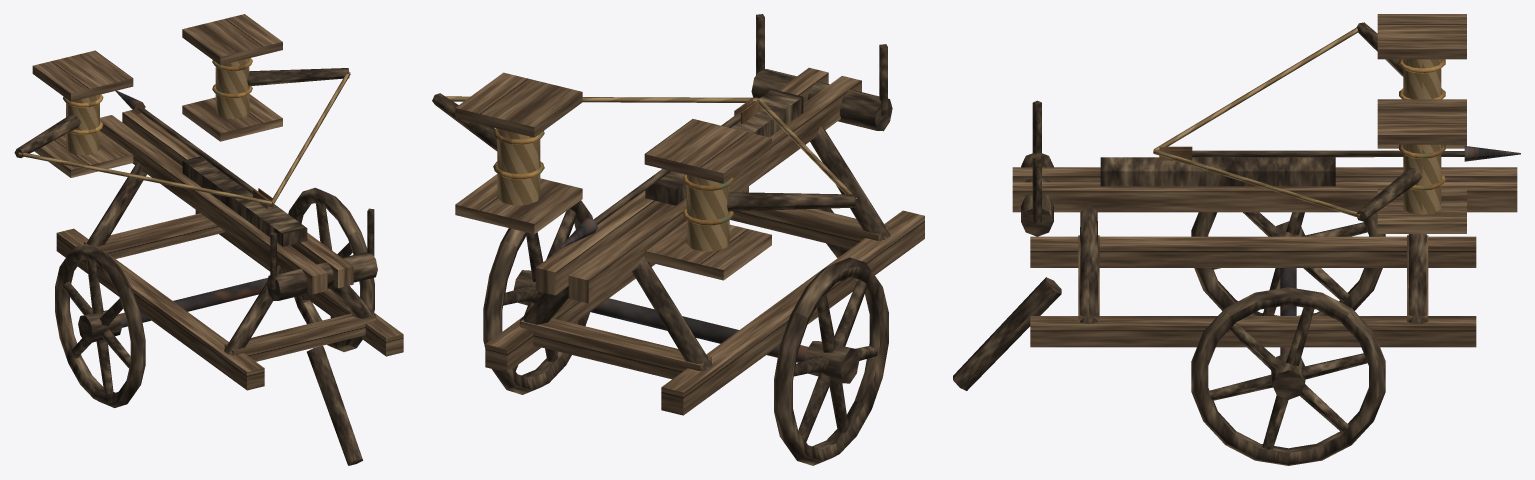
File: balista_telaio.gltf
The picture shows the model from 3 angles, left to right: view 1: azimuth 30°, elevation 25°; view 2: azimuth 150°, elevation 25°; view 3: azimuth 270°, elevation 25°; orthographic projection. The views are drawn at different scales.
Parts seen in each view (by area): view 1: balista_telaio; view 2: balista_telaio; view 3: balista_telaio.
Boxes of the visible parts, x1,y1,x2,y2 form: balista_telaio: (14,14,403,465); balista_telaio: (432,14,924,465); balista_telaio: (953,14,1520,465).
Bounding box in the file's own units: 1.92 × 1.53 × 2.42.
Materials: 6 (6 with a texture image).
